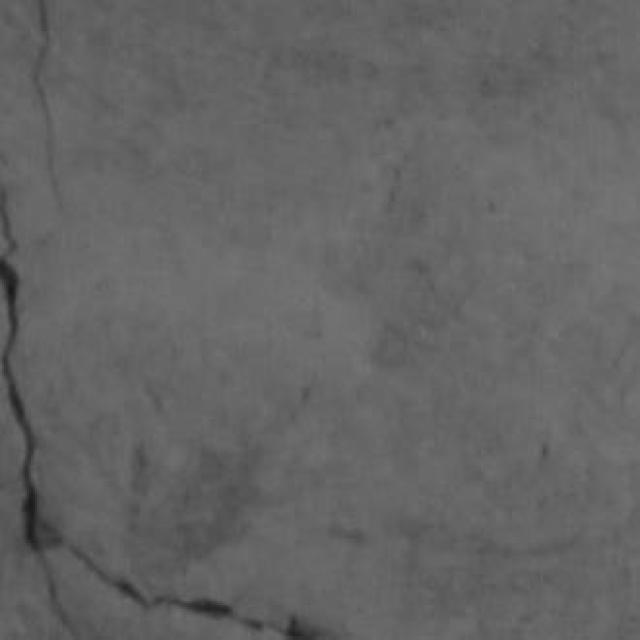crack: (0, 187, 325, 639), (0, 189, 77, 638), (64, 544, 325, 639), (32, 0, 65, 213)
